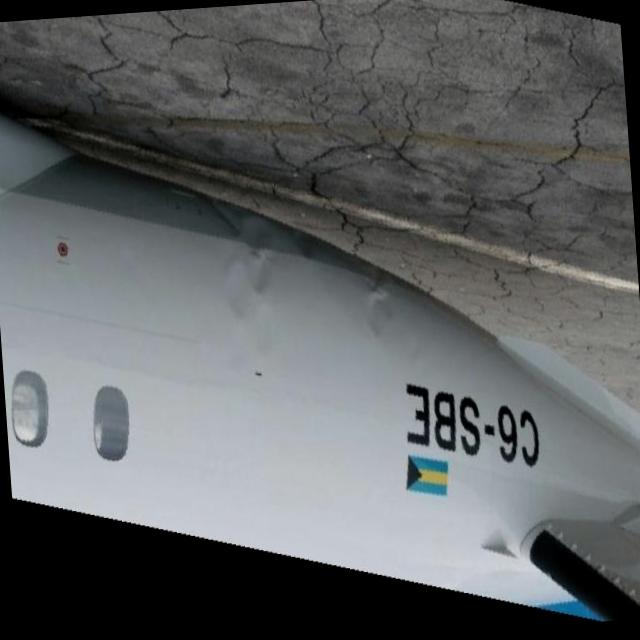dent: (212, 200, 404, 364)
